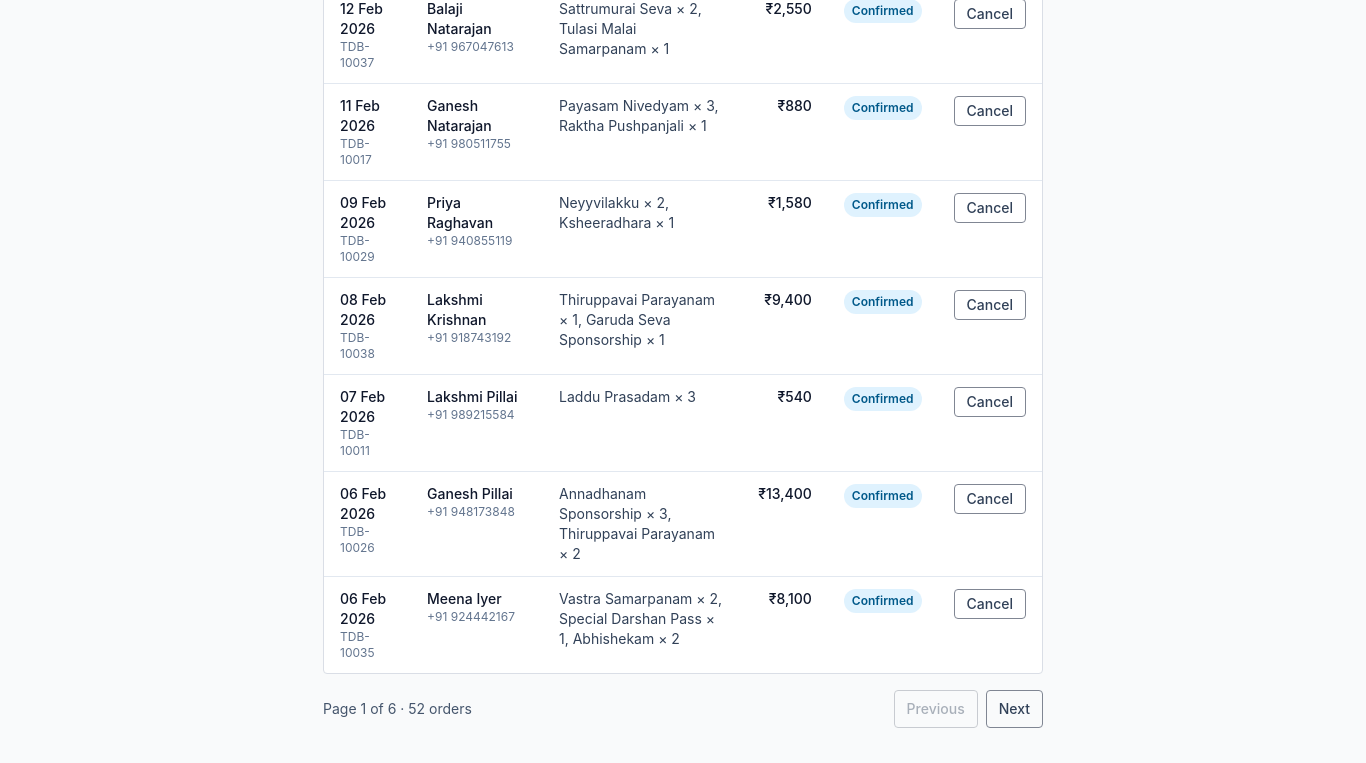
Test: Orders screen › returns to page 1 when the status filter changes
The image size is (1366, 763).
(page scrolled)
Click the button "Next" at (1014, 709), box x1=986 y1=690 x2=1043 y2=728
(page scrolled)
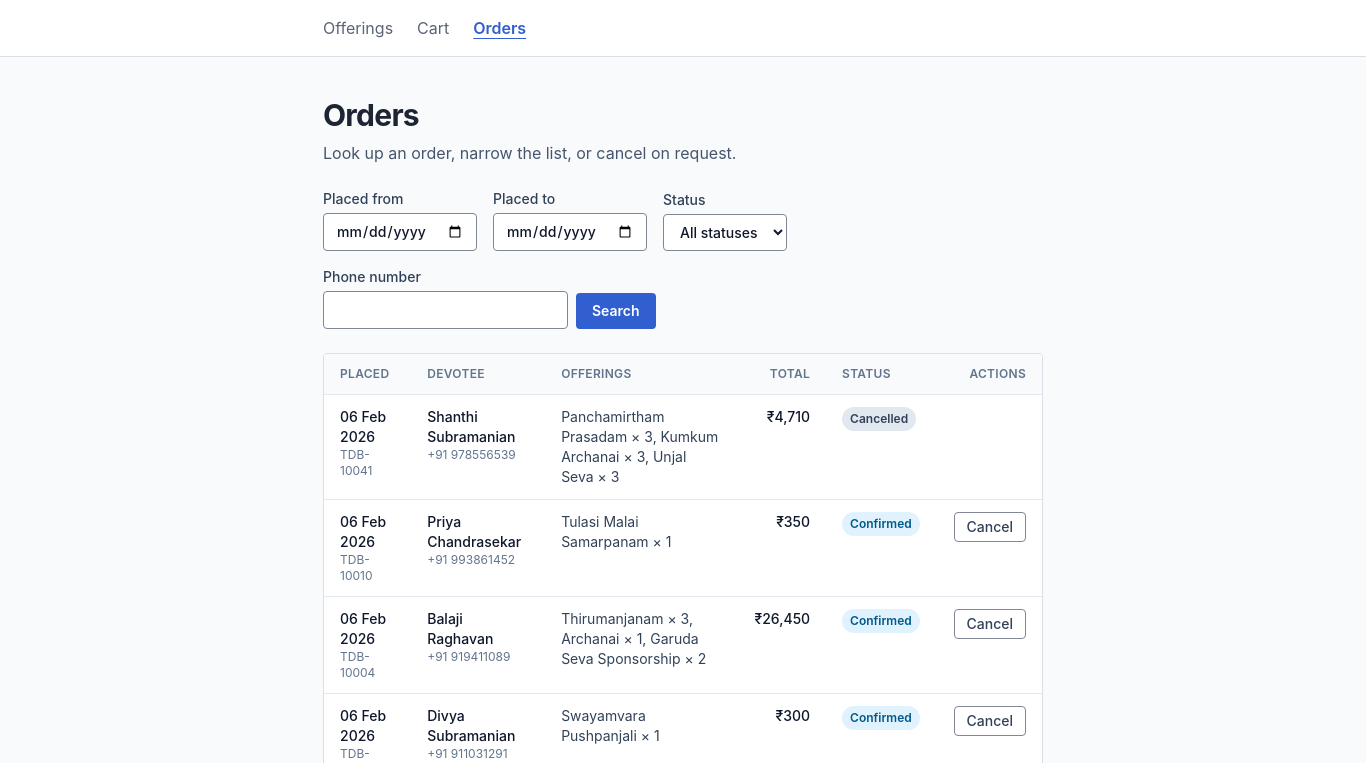
Select "Completed" in the dropdown labelled "Status" at (725, 232), box x1=663 y1=214 x2=787 y2=251
(page scrolled)
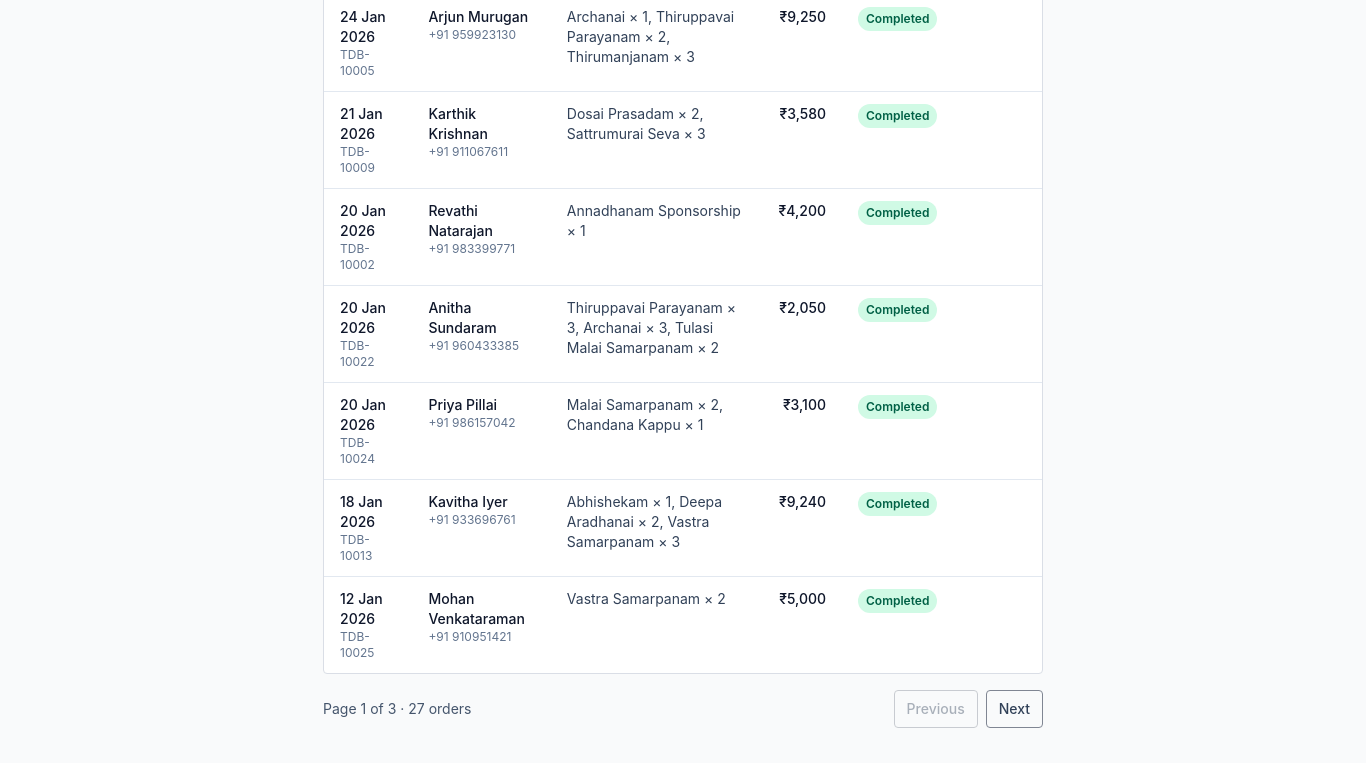
Expected: the text "Page 1 of 3 · 27 orders" is shown, x1=323 y1=699 x2=472 y2=719
